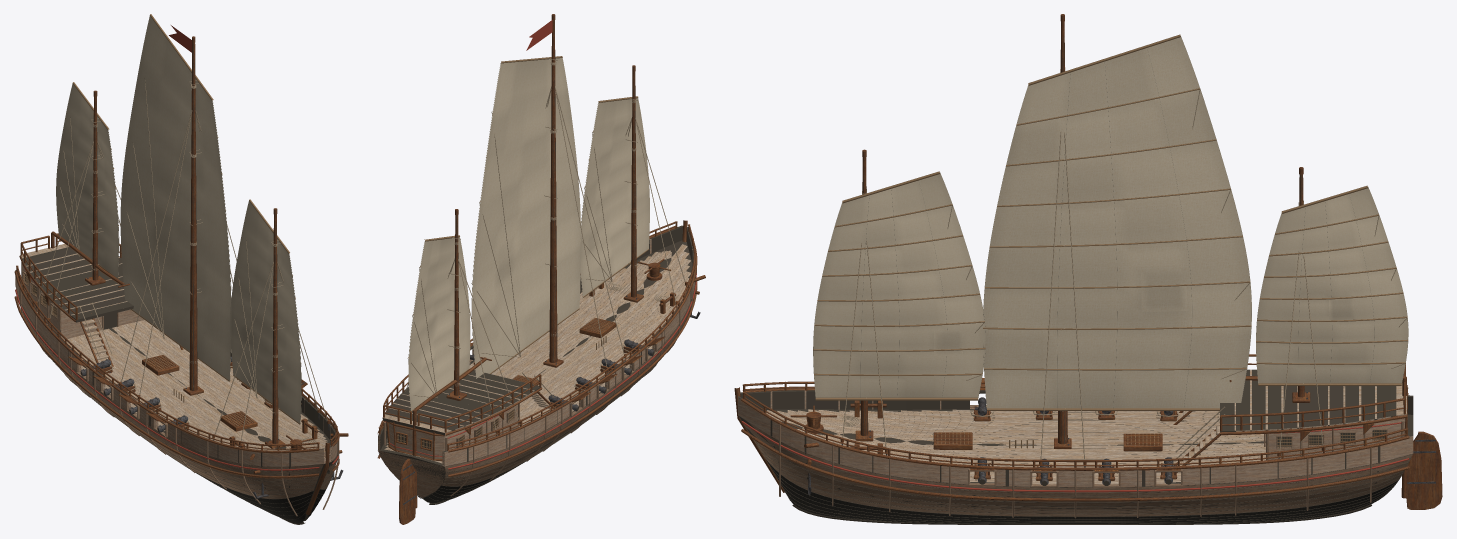
The model's file is fuchuan-lod0.glb.
3 views of the same model, side by side, from view 1: azimuth 30°, elevation 25°; view 2: azimuth 150°, elevation 25°; view 3: azimuth 270°, elevation 25° (orthographic). The views are drawn at different scales.
Parts seen in each view (by area): view 1: sail_1, hull, deck, sail_0, sail_2, shadow_deck, deck_fittings, bulwark_rails, mast_timber_1, shadow_hull, sterncastle, mast_timber_0 (+8 smaller); view 2: sail_1, deck, hull, sail_0, sail_2, shadow_deck, deck_fittings, shadow_hull, bulwark_rails, mast_timber_1, mast_timber_0, stern_transom (+9 smaller); view 3: sail_1, hull, sail_0, sail_2, deck, shadow_hull, shadow_deck, bulwark_rails, deck_fittings, rudder_blade, sterncastle, rigging_1.
Part boxes in pixels (bbox=[...]): sail_1: bbox=[120, 14, 231, 381]; hull: bbox=[14, 270, 339, 524]; deck: bbox=[19, 244, 330, 450]; sail_0: bbox=[230, 199, 301, 424]; sail_2: bbox=[56, 82, 119, 278]; shadow_deck: bbox=[22, 247, 133, 322]; deck_fittings: bbox=[21, 262, 348, 498]; bulwark_rails: bbox=[16, 233, 338, 452]; mast_timber_1: bbox=[189, 43, 197, 390]; shadow_hull: bbox=[15, 270, 337, 521]; sterncastle: bbox=[23, 266, 144, 339]; mast_timber_0: bbox=[272, 214, 278, 443]; sail_1: bbox=[471, 56, 580, 378]; deck: bbox=[382, 244, 690, 463]; hull: bbox=[377, 220, 697, 504]; sail_0: bbox=[580, 96, 649, 297]; sail_2: bbox=[407, 235, 470, 411]; shadow_deck: bbox=[383, 370, 540, 435]; deck_fittings: bbox=[383, 259, 705, 461]; shadow_hull: bbox=[378, 225, 695, 502]; bulwark_rails: bbox=[378, 221, 695, 451]; mast_timber_1: bbox=[549, 20, 557, 362]; mast_timber_0: bbox=[631, 71, 636, 297]; stern_transom: bbox=[388, 423, 444, 458]; sail_1: bbox=[983, 34, 1251, 410]; hull: bbox=[734, 387, 1413, 524]; sail_0: bbox=[813, 171, 985, 400]; sail_2: bbox=[1256, 185, 1408, 386]; deck: bbox=[766, 369, 1407, 484]; shadow_hull: bbox=[738, 390, 1413, 523]; shadow_deck: bbox=[1220, 369, 1396, 432]; bulwark_rails: bbox=[742, 354, 1408, 467]; deck_fittings: bbox=[790, 385, 1407, 494]; rudder_blade: bbox=[1406, 431, 1442, 509]; sterncastle: bbox=[1266, 418, 1404, 460]; rigging_1: bbox=[1039, 132, 1086, 473].
Size of the model in its own units: 10.4 by 26.65 by 33.55.
13 materials, 8 textured.
